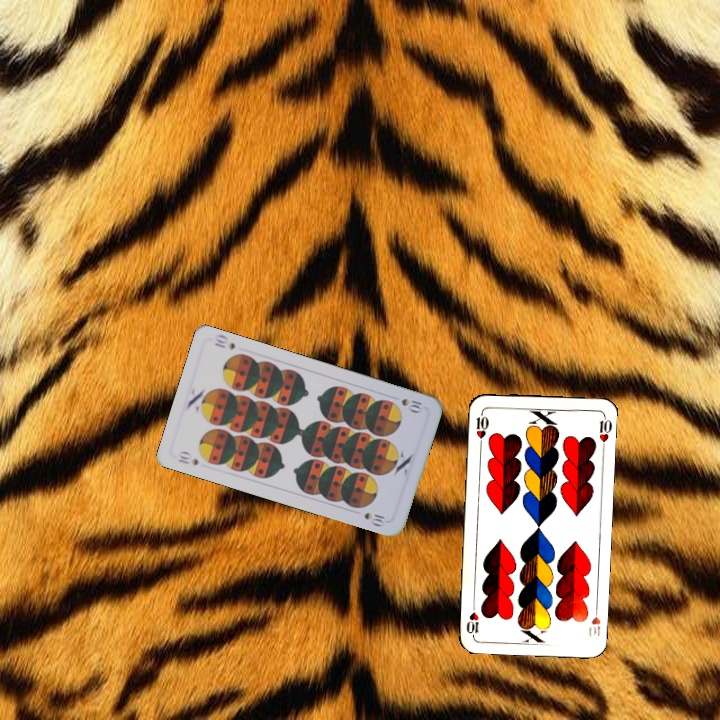H10: (472, 408, 491, 448), (583, 602, 603, 639)
S10: (397, 394, 426, 416), (174, 447, 201, 468)
